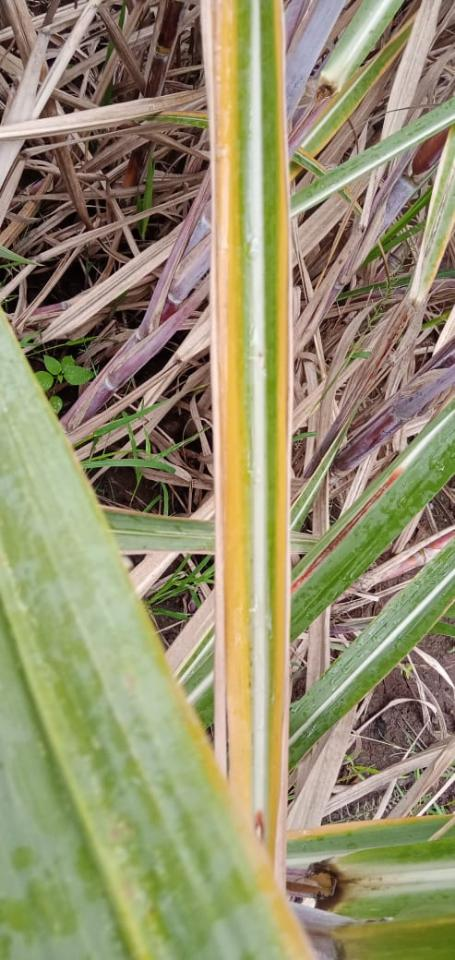RedRot: (292, 466, 405, 595), (254, 812, 265, 845)
Yellow: (201, 0, 253, 822), (265, 0, 293, 896)
